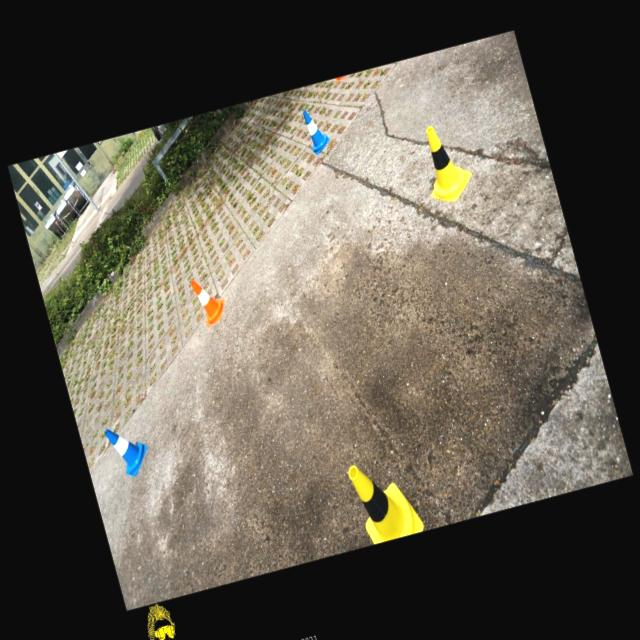blue_cone: (104, 420, 154, 481), (301, 106, 333, 155)
orange_cone: (190, 273, 230, 327)
yellow_cone: (346, 451, 425, 545), (414, 119, 476, 206)
